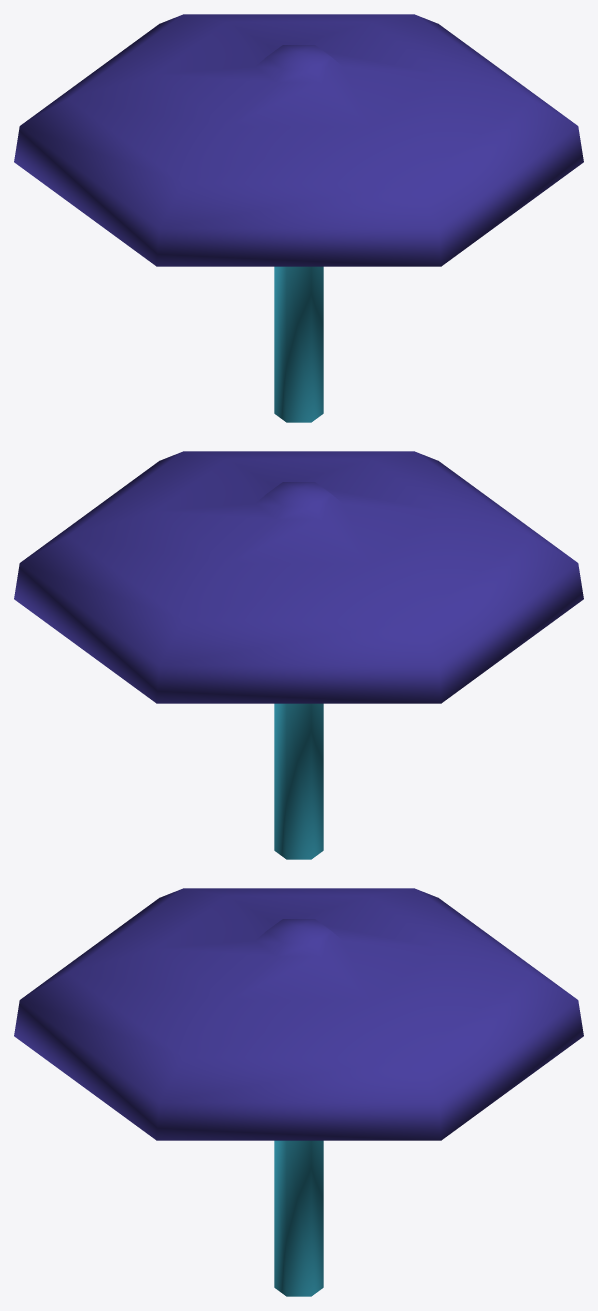
Rendered from ParasolMushroomBig_v3.fbx.
3 views of the same model, one above another, from view 1: azimuth 30°, elevation 25°; view 2: azimuth 150°, elevation 25°; view 3: azimuth 270°, elevation 25° (orthographic).
Visible parts, largest first — view 1: Parasol_LOD0; view 2: Parasol_LOD0; view 3: Parasol_LOD0.
Boxes of the visible parts, left/top/right/bottom form: Parasol_LOD0: left=14, top=14, right=583, bottom=422; Parasol_LOD0: left=14, top=451, right=583, bottom=859; Parasol_LOD0: left=14, top=888, right=583, bottom=1296.
Size of what is drawn, in the model's own units: 22.38 by 18.07 by 25.84.
